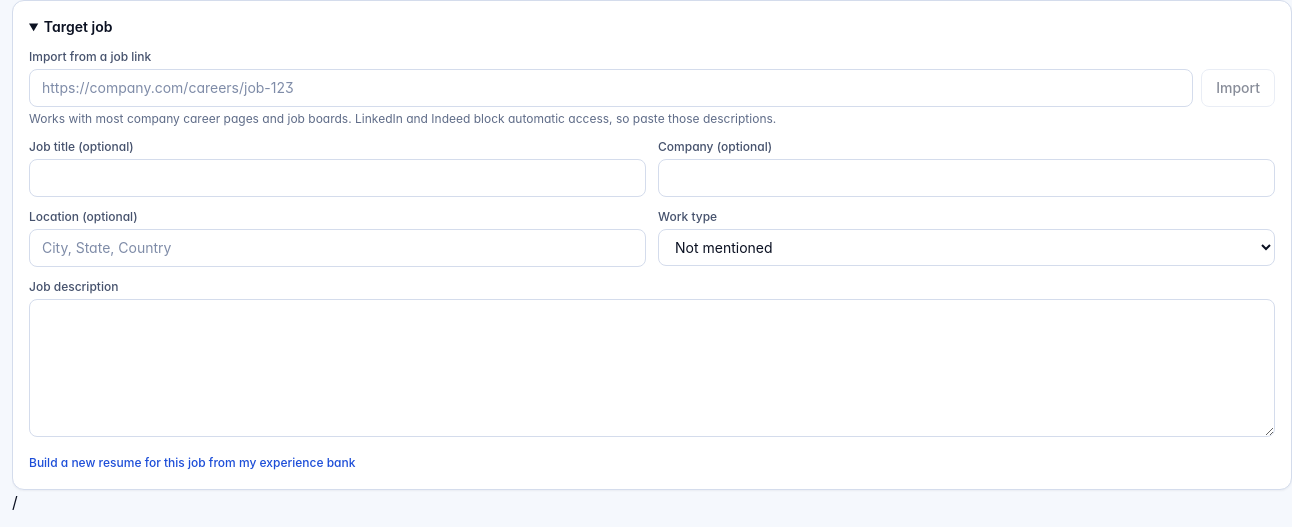
Test: job link import › shows the server message when a page cannot be read, and leaves the form alone
The image size is (1292, 527).
Type "https://linkedin.com/jobs/view/1" into the field labelled "Import from a job link" at (611, 88), box [29,69,1193,107]
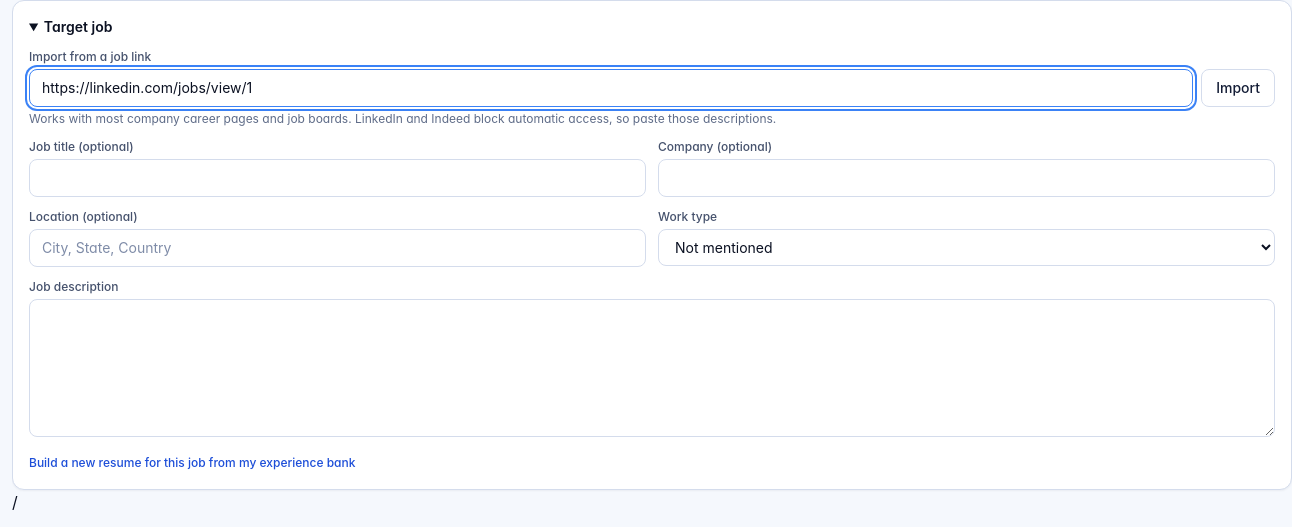
Click the button "Import" at (1238, 88), box [1201,69,1275,107]
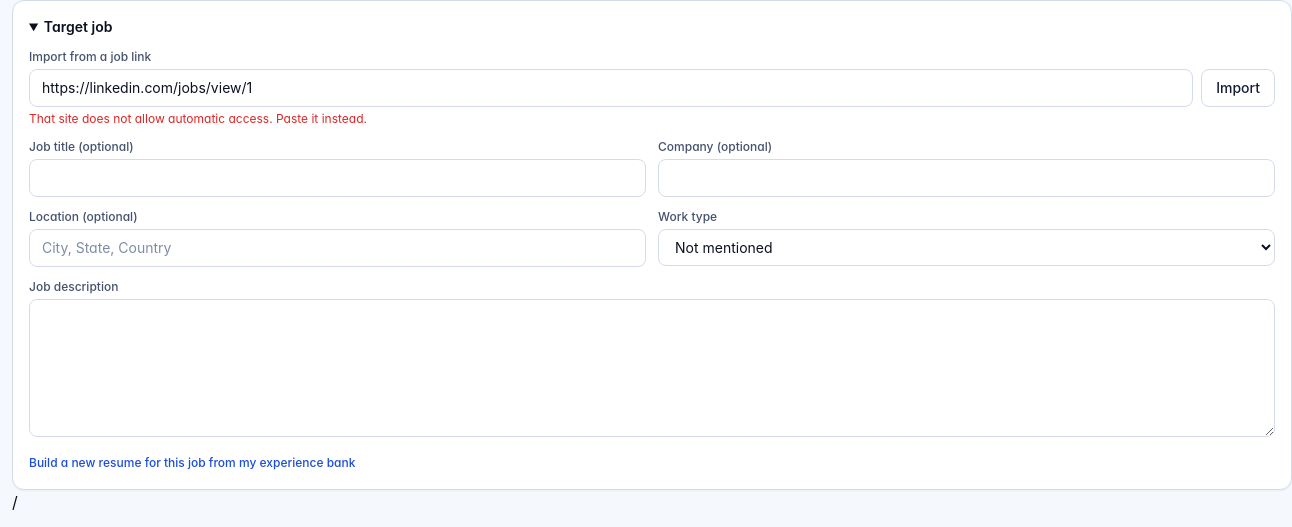
Result: the message shows "does not allow automatic access" at [29,111,367,126]
